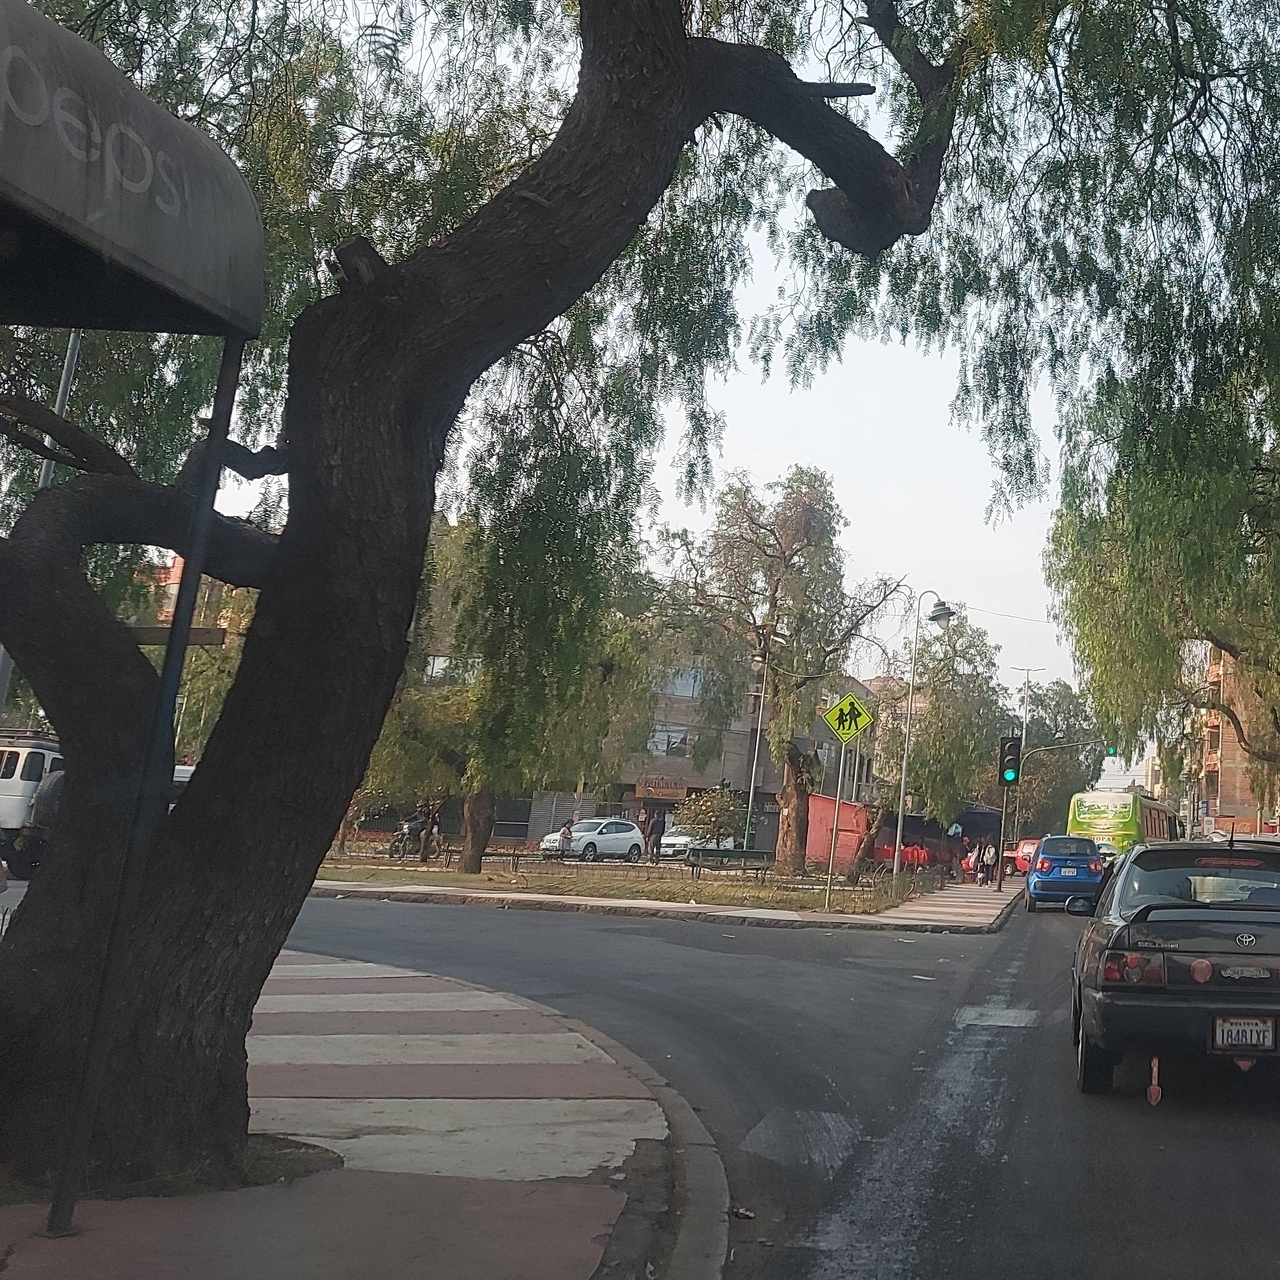zona-escolar: (823, 693, 872, 745)
